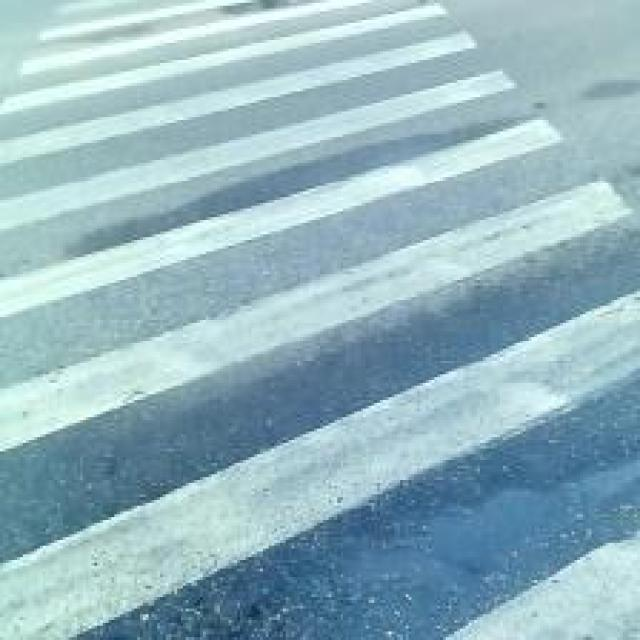walk-crossing: (29, 34, 620, 640)
